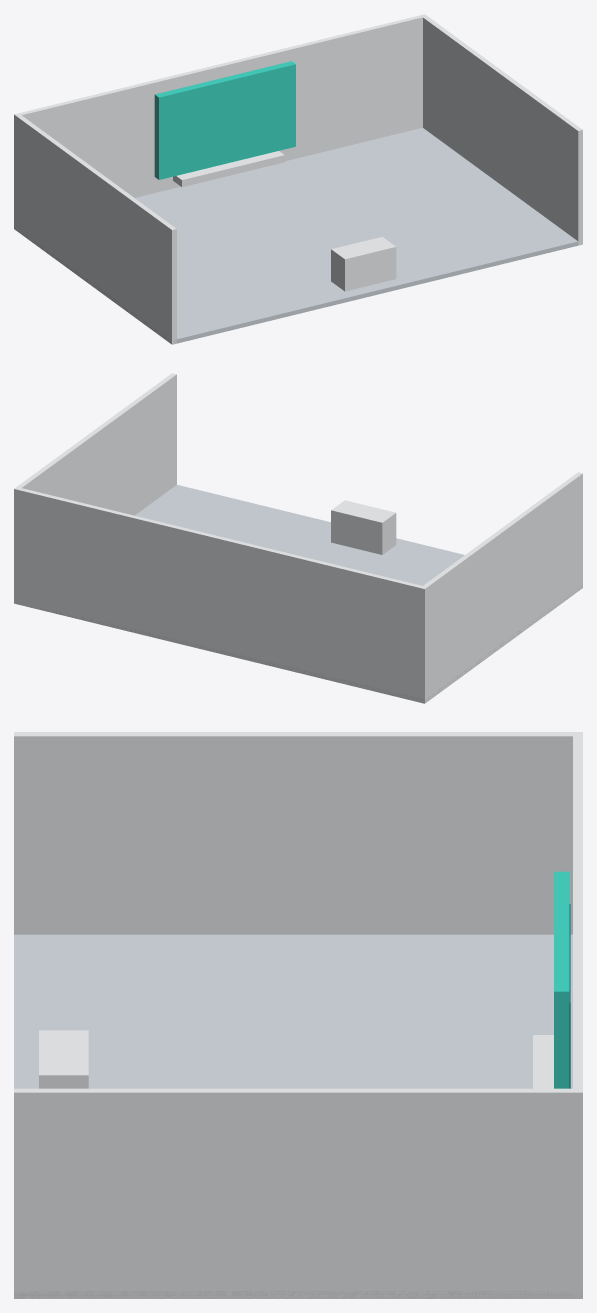
The picture shows the model from 3 angles, top to bottom: view 1: azimuth 30°, elevation 25°; view 2: azimuth 150°, elevation 25°; view 3: azimuth 270°, elevation 25°; orthographic projection. The views are drawn at different scales.
Visible parts, largest first — view 1: Exhibition Booth Concept; view 2: Exhibition Booth Concept; view 3: Exhibition Booth Concept.
Boxes of the visible parts, box(x1,y1,x2,y2) form: Exhibition Booth Concept: box(14, 14, 582, 344); Exhibition Booth Concept: box(14, 373, 582, 703); Exhibition Booth Concept: box(14, 732, 582, 1298).
Size of the model in its own units: 12 by 3.2 by 8.
